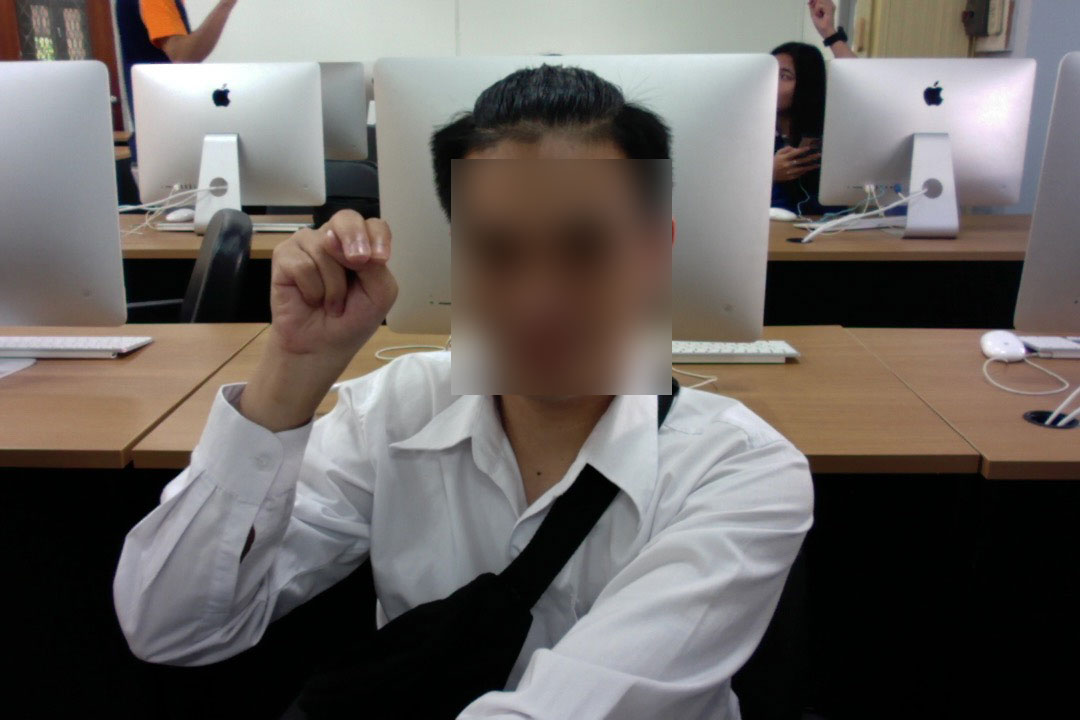nor: (258, 203, 405, 431)
